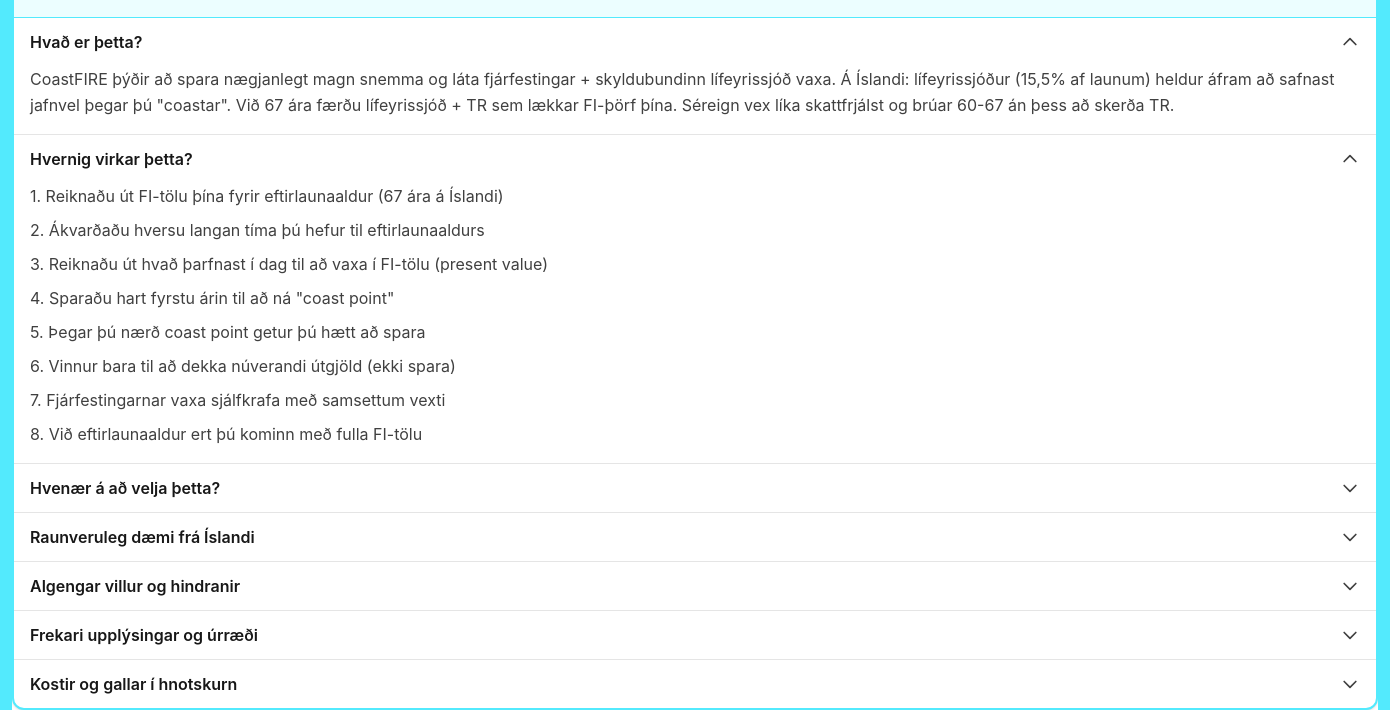
Test case: DetailedExplanation › renders pros and cons section
(page scrolled)
# Open pros/cons section
Click the button "Kostir og gallar í hnotskurn": click(134, 684) [14,660,1376,708]
(page scrolled)
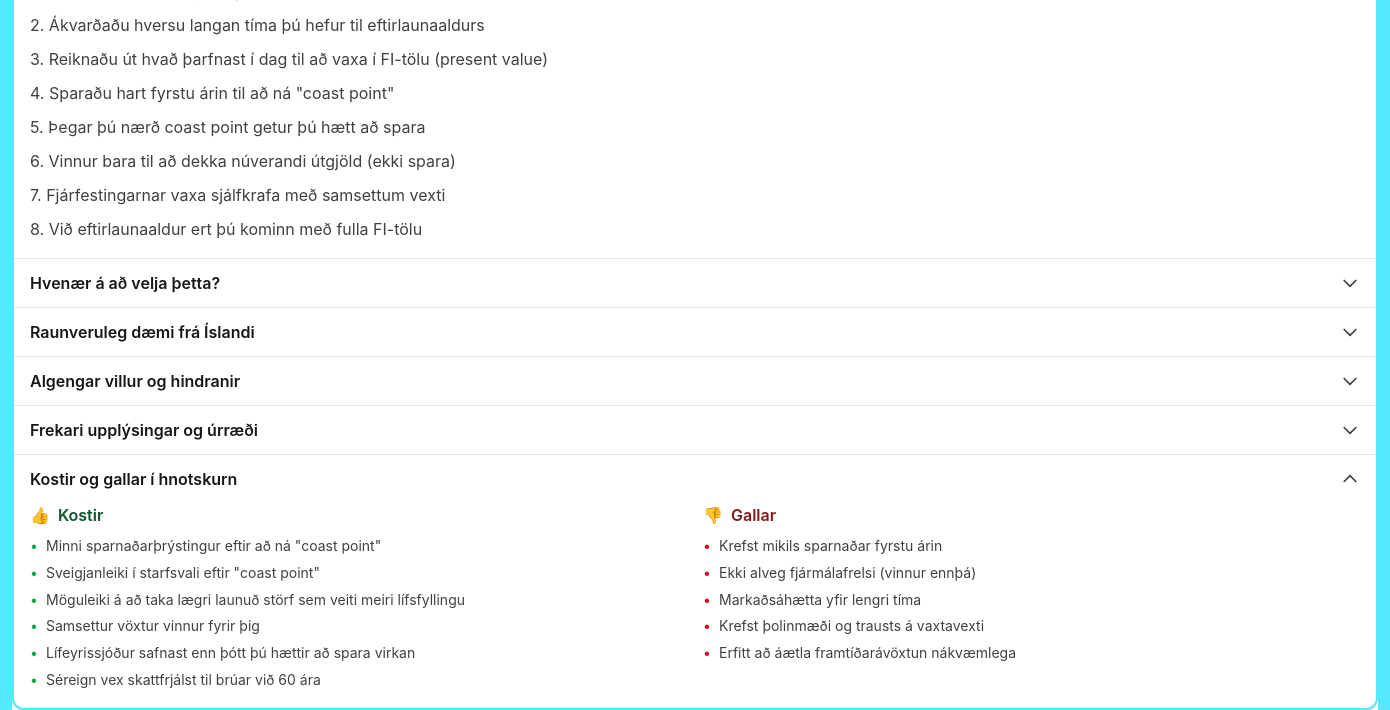
Expected: the heading "Kostir og gallar í hnotskurn" is shown, [30,467,237,491]
Now the heading "👎 Gallar" is shown, box [703,505,776,525]
